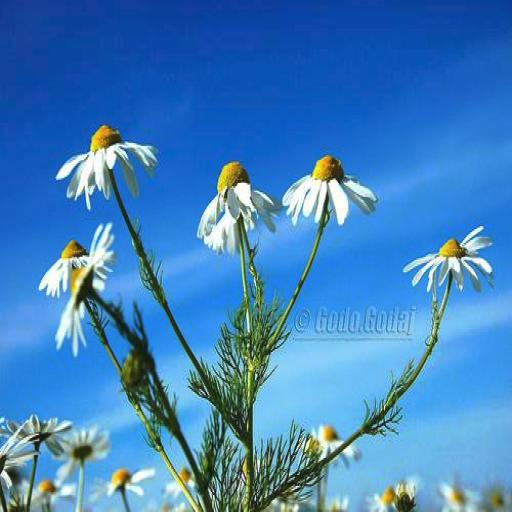daisy: (58, 226, 120, 375), (280, 151, 380, 241), (60, 120, 154, 203), (406, 223, 500, 300), (196, 166, 272, 240), (35, 242, 117, 292), (60, 414, 108, 476), (94, 464, 155, 503), (314, 420, 358, 456), (33, 477, 62, 501)
